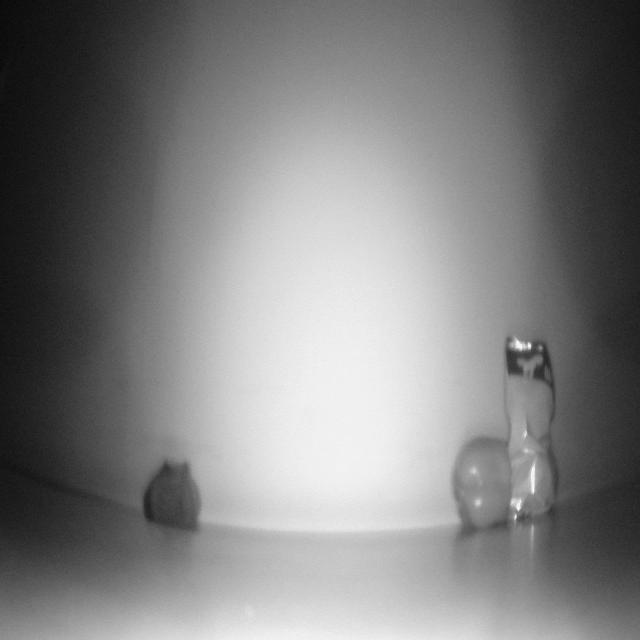targets: (502, 338, 561, 526), (454, 441, 512, 535), (143, 439, 201, 532)
